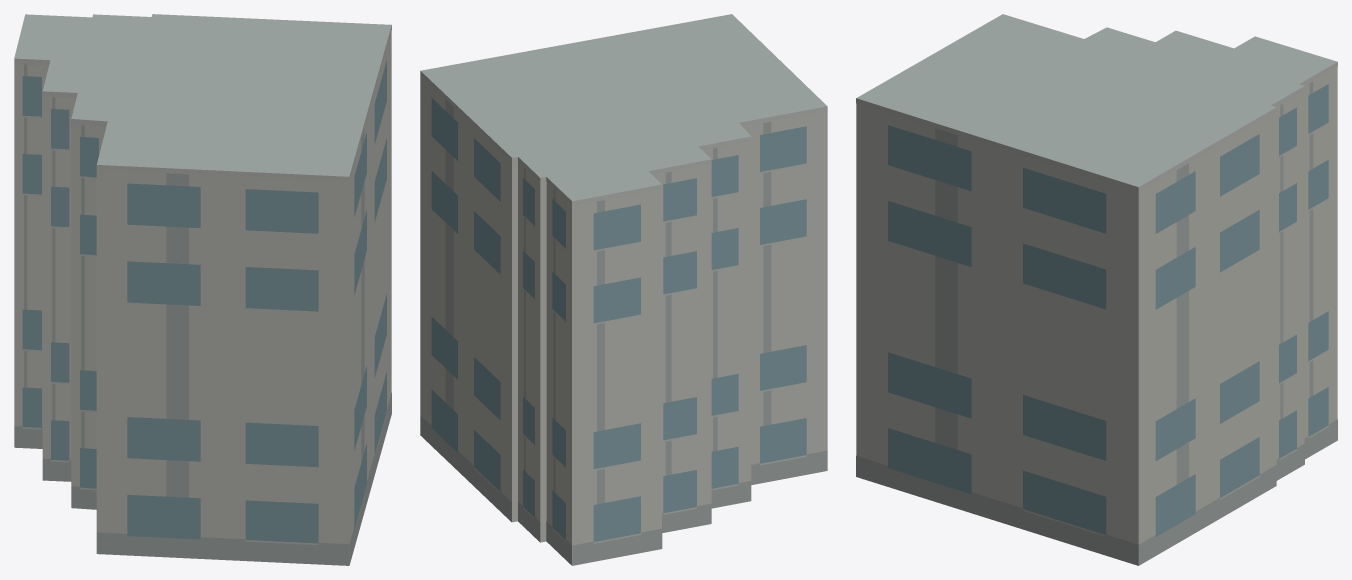
The model's file is survey-upis-32709975.glb.
3 views of the same model, side by side, from view 1: azimuth 30°, elevation 25°; view 2: azimuth 150°, elevation 25°; view 3: azimuth 270°, elevation 25° (orthographic). The views are drawn at different scales.
Parts seen in each view (by area): view 1: survey-upis-32709975.tmp; view 2: survey-upis-32709975.tmp; view 3: survey-upis-32709975.tmp.
Part boxes in pixels (x1=…): survey-upis-32709975.tmp: x1=14, y1=14, x2=391, y2=565; survey-upis-32709975.tmp: x1=420, y1=14, x2=827, y2=565; survey-upis-32709975.tmp: x1=856, y1=14, x2=1337, y2=565.
Bounding box in the file's own units: 17.86 × 18.2 × 20.99.
